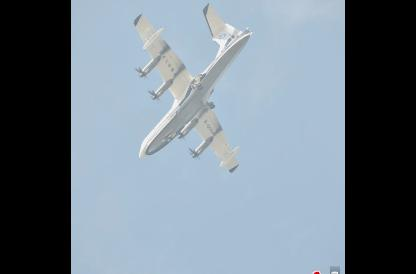AG600: (132, 1, 254, 172)
